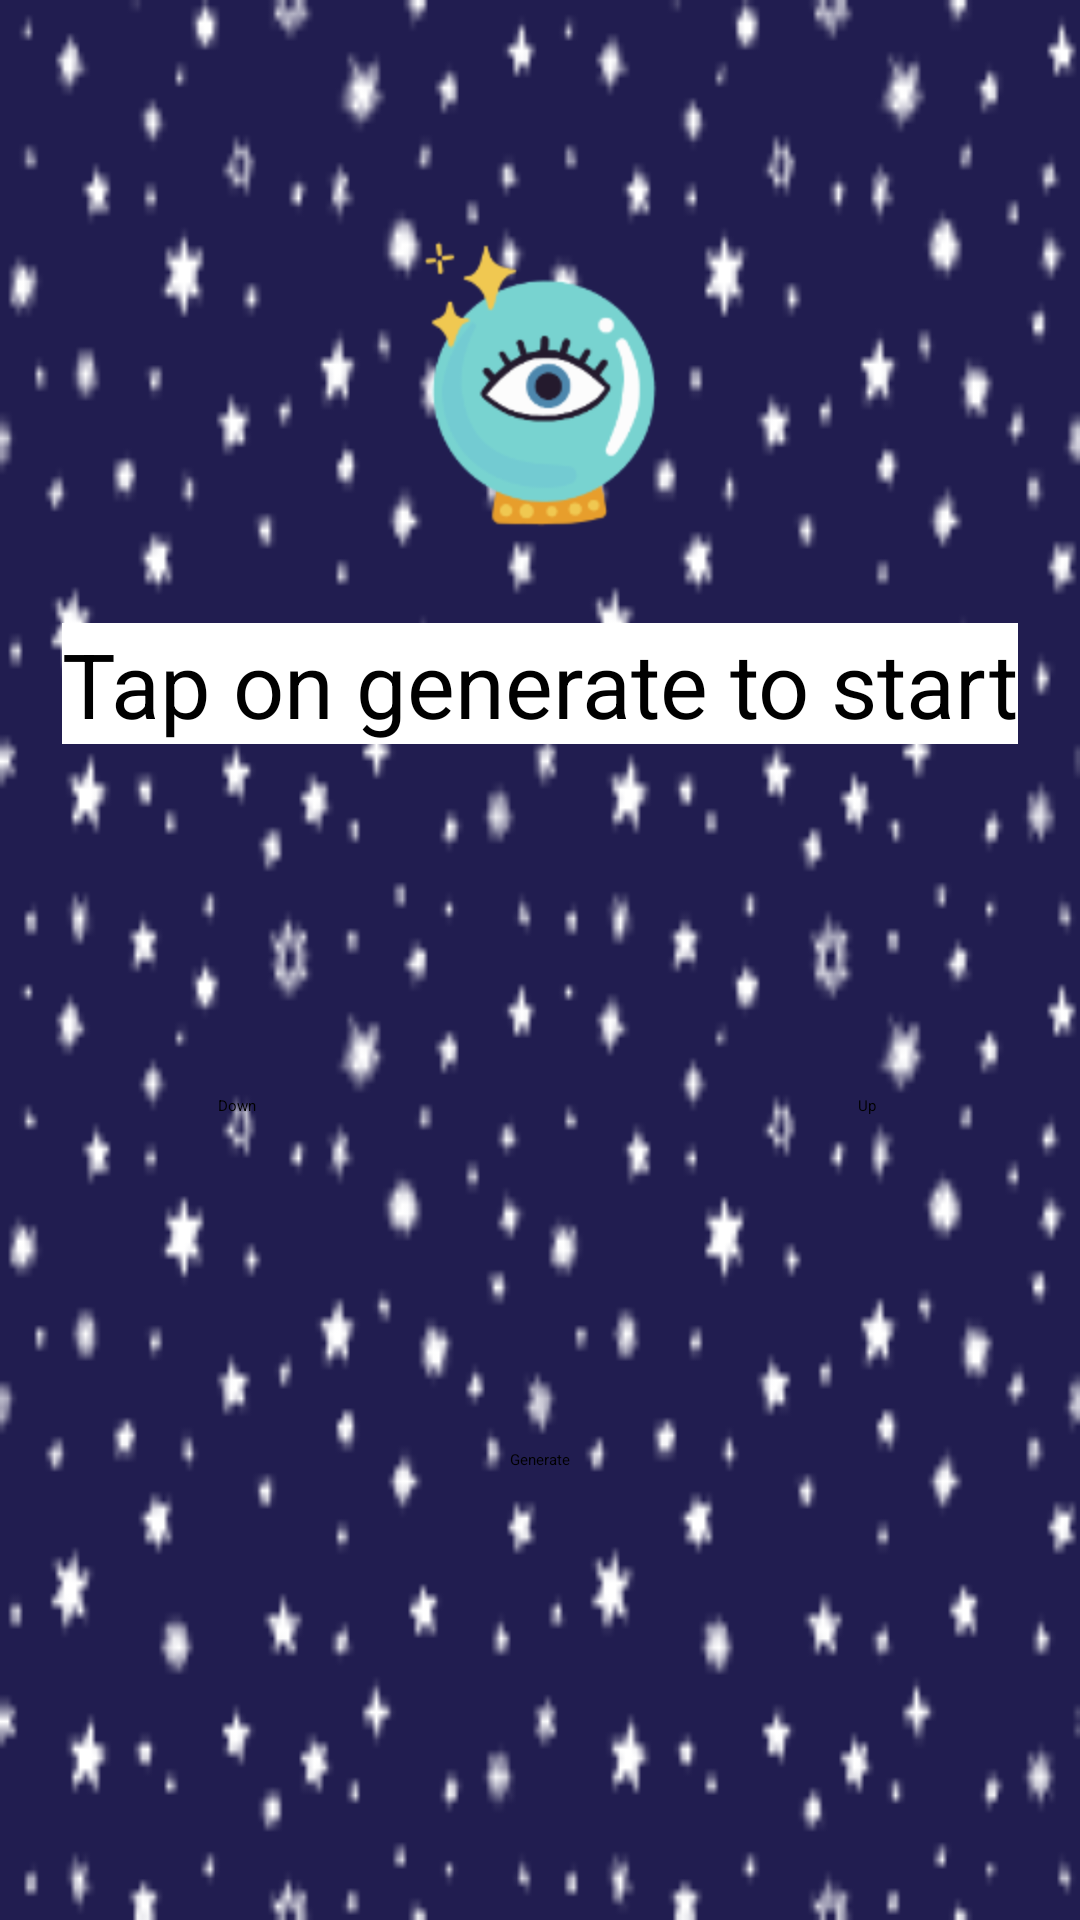

Screen size 1080px×1920px. Icon name, then its center in pixels as (x,y):
eyeball: (548,380)
